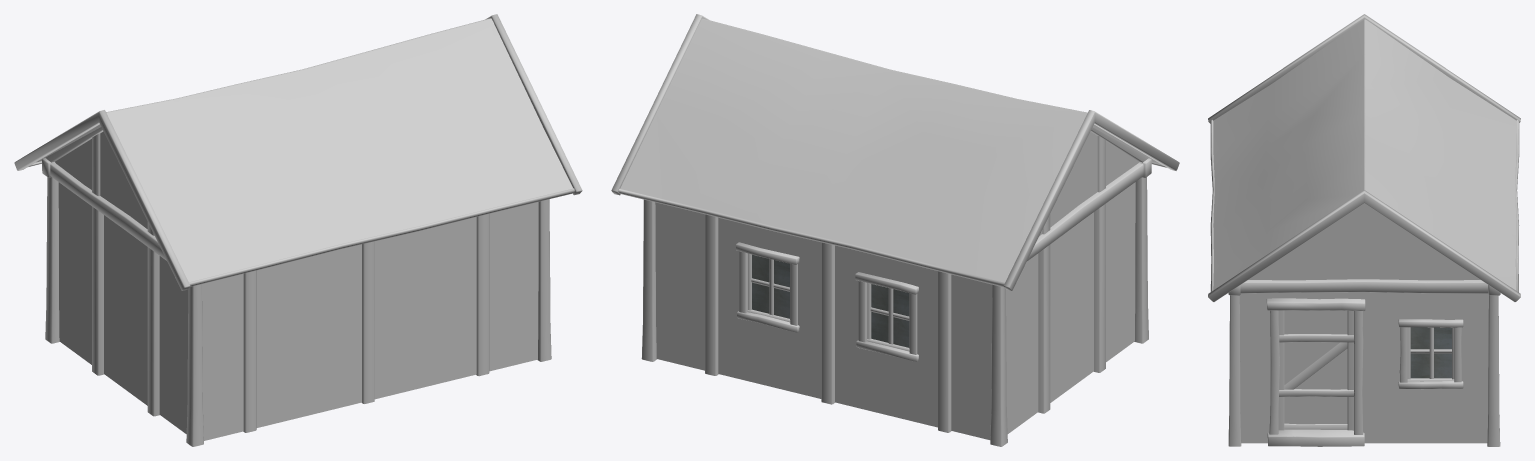
The model's file is House_1.FBX.
3 views of the same model, side by side, from view 1: azimuth 30°, elevation 25°; view 2: azimuth 150°, elevation 25°; view 3: azimuth 270°, elevation 25° (orthographic). The views are drawn at different scales.
Visible parts, largest first — view 1: mesh; view 2: mesh; view 3: mesh.
Part boxes in pixels (x1,y1,x2,y2): mesh: [14, 14, 582, 446]; mesh: [611, 14, 1179, 446]; mesh: [1208, 14, 1520, 446].
Size of the model in its own units: 691 by 511 by 474.
